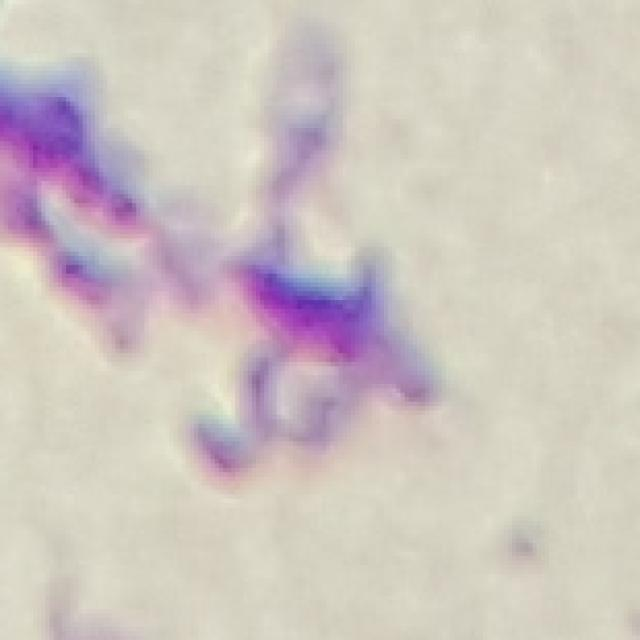non-sperm: (145, 195, 462, 467)
